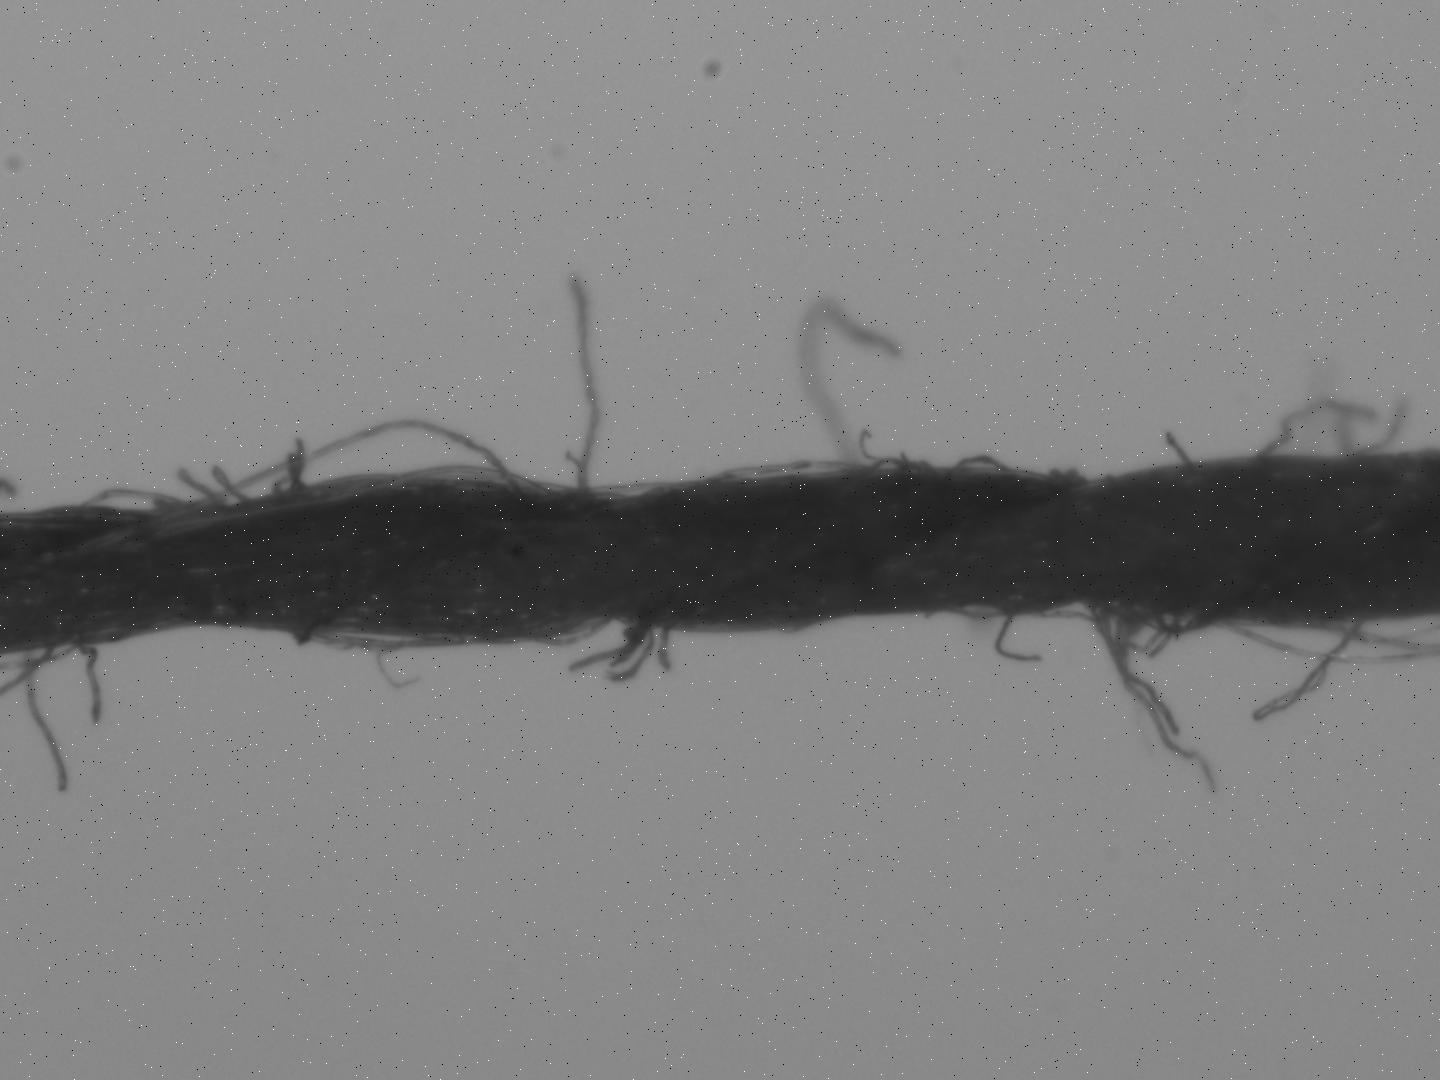loop_fiber: (185, 420, 524, 522), (1101, 601, 1227, 640), (84, 487, 178, 528), (313, 634, 474, 655), (731, 457, 864, 481), (535, 622, 608, 649), (952, 452, 1014, 478), (946, 601, 1014, 624), (867, 457, 932, 481), (1051, 602, 1102, 623)
protruding_fiber: (1091, 600, 1218, 801), (24, 649, 67, 792), (575, 272, 600, 490), (1158, 432, 1194, 463), (653, 624, 671, 674), (86, 638, 96, 723)
